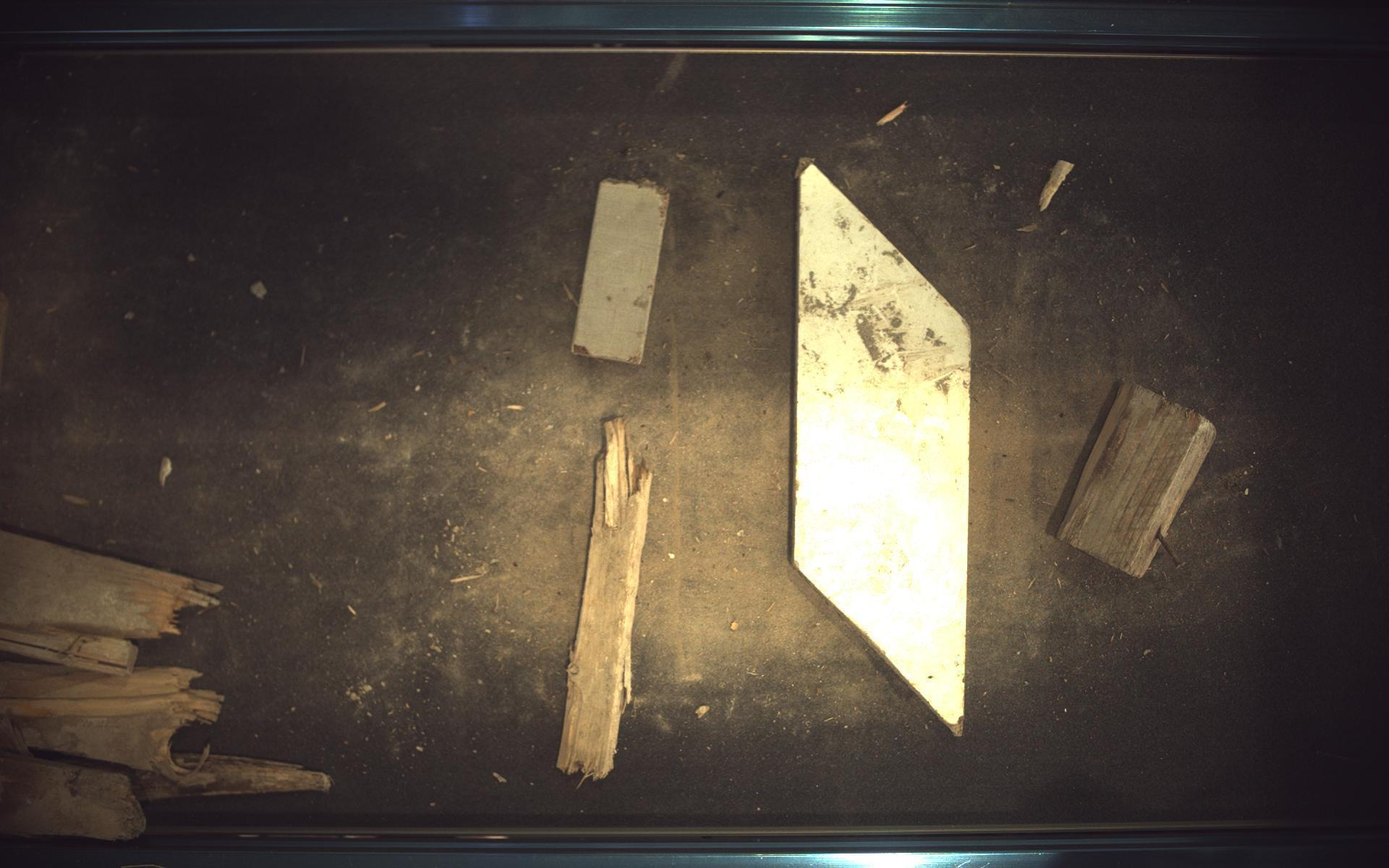wood: (794, 162, 973, 737), (558, 417, 653, 782), (1, 531, 221, 676), (1061, 383, 1219, 578), (1, 663, 221, 788), (572, 179, 670, 365), (1, 757, 145, 842), (132, 756, 331, 802)
